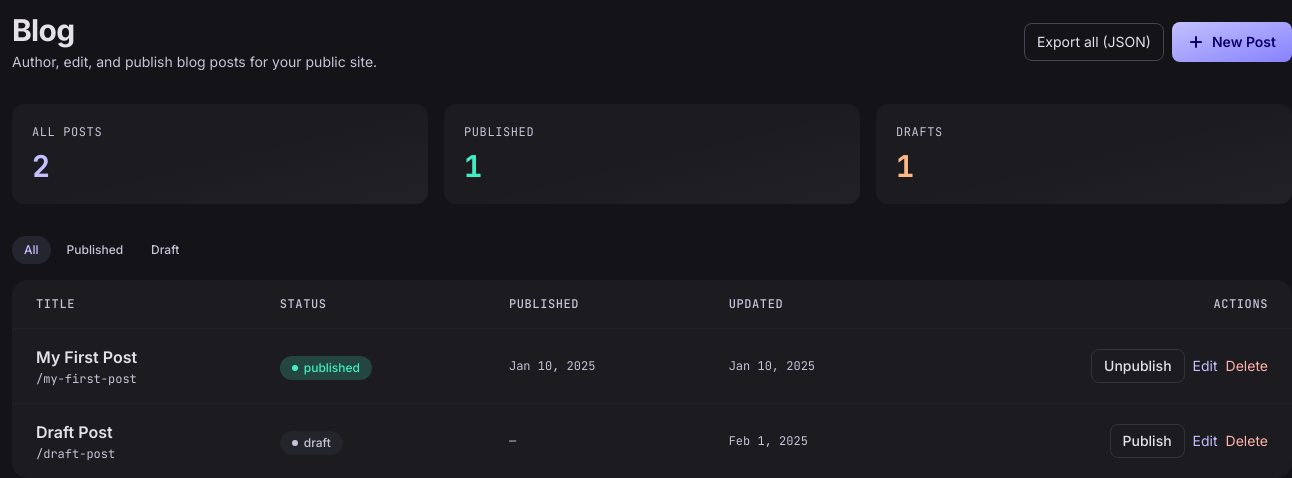
Test: BlogAdminPage › filters to published posts only
Click the tab "published" at point(95, 250), box [55,236,135,264]
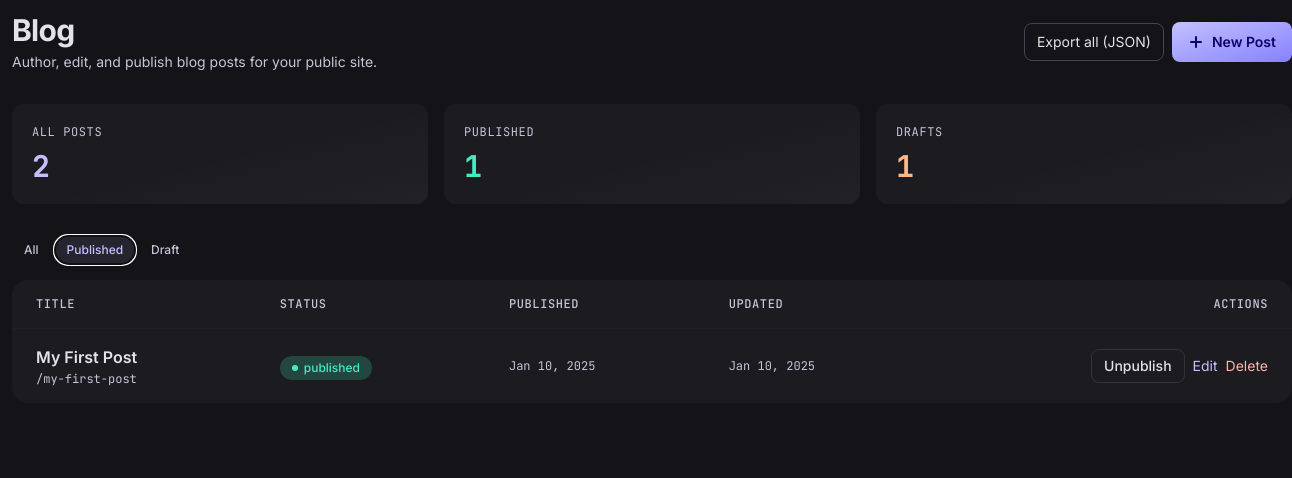
expect the link "My First Post" is shown: met, box [36,347,137,367]
expect the link "Draft Post" is gone: met
